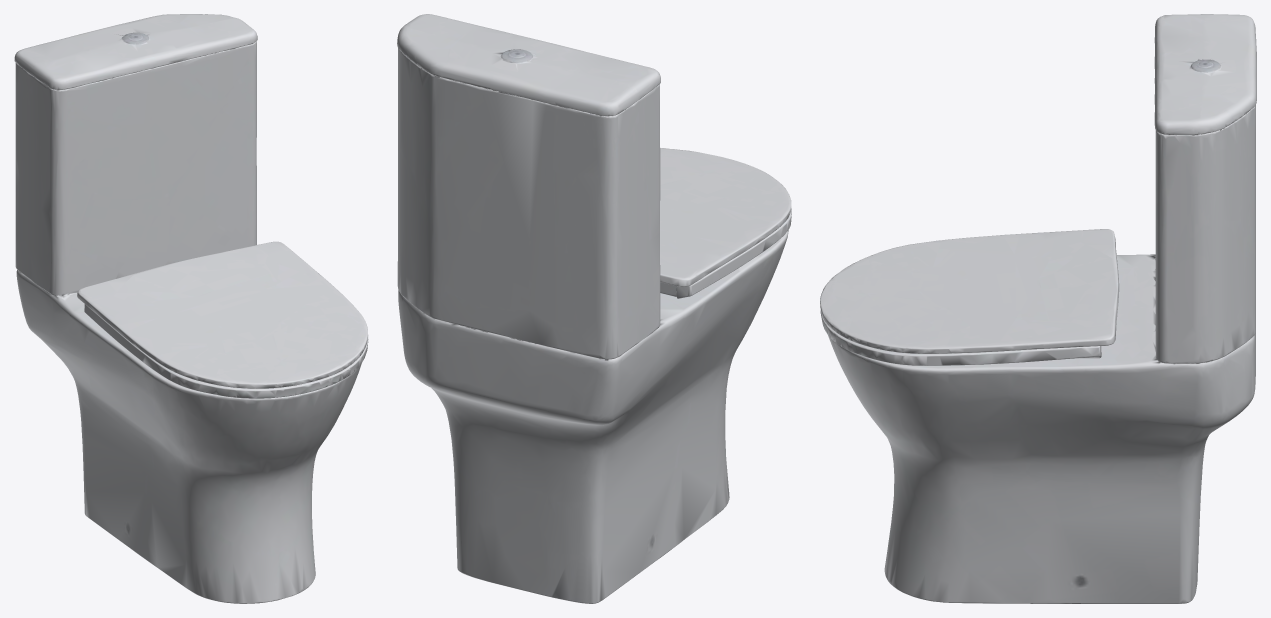
3 renders of one model, left to right at view 1: azimuth 30°, elevation 25°; view 2: azimuth 150°, elevation 25°; view 3: azimuth 270°, elevation 25°, orthographic. The views are drawn at different scales.
Size of the model in its own units: 0.9053 by 1.9 by 1.48.
Materials: 1 (1 with a texture image).
